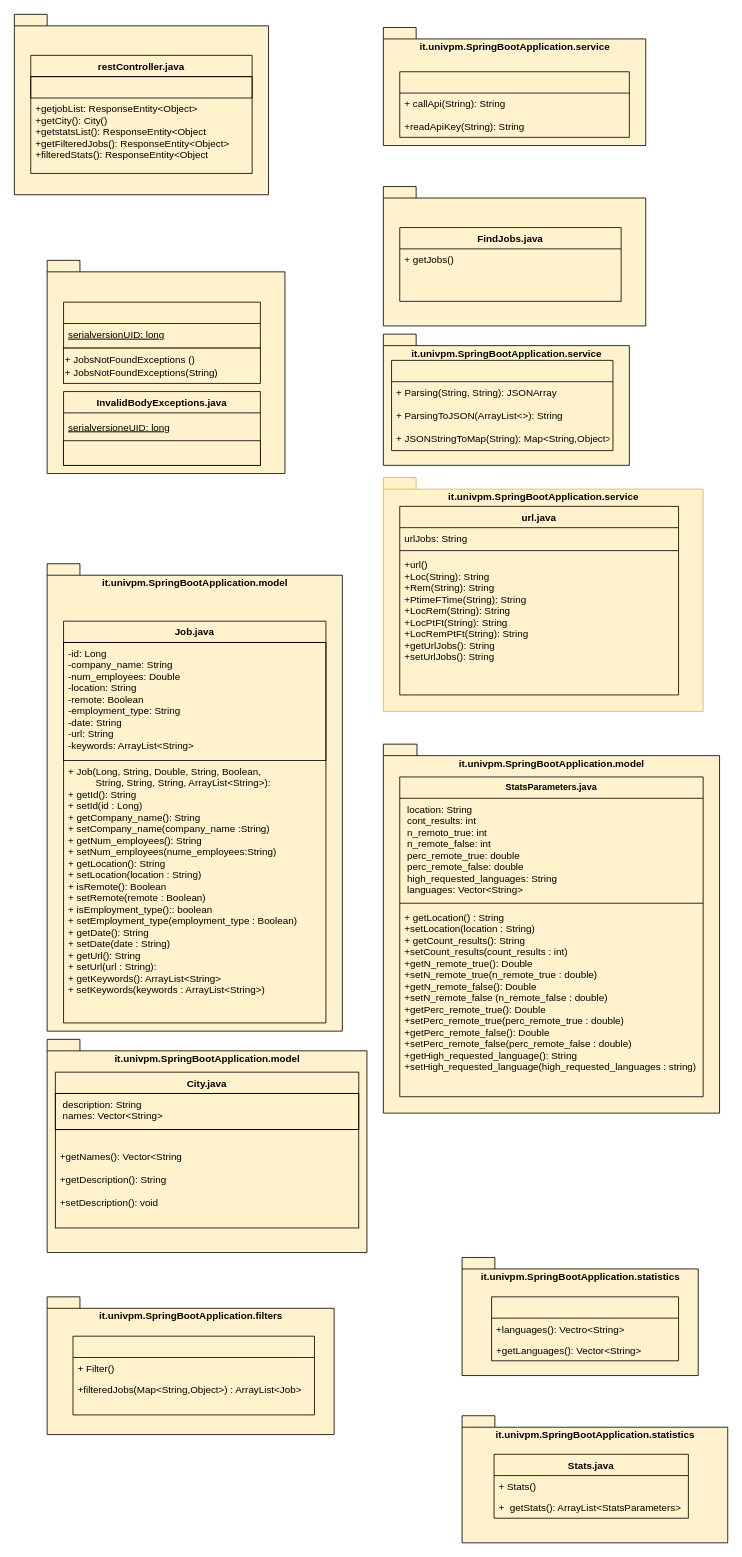
The diagram is 742 pixels wide and 1557 high, and some of its shapes have lost their labels. The box of each missing label's shape, as (x1, y1, x2, y2) in pixels:
+ InvalidBodyExceptions(): (63, 440, 260, 465)
+City(): (55, 1129, 359, 1228)
ApiCall.java: (399, 71, 629, 137)
Filter.java: (72, 1335, 314, 1415)
it.univpm.SpringBootApplication.controller: (14, 14, 269, 195)
it.univpm.SpringBootApplication.exceptions: (46, 260, 285, 474)
it.univpm.SpringBootAPpplication.service: (383, 186, 646, 326)
JobsNotFoundExceptions.java: (63, 301, 260, 348)
Languages.java: (491, 1296, 679, 1361)
Parse.java: (391, 360, 613, 451)
